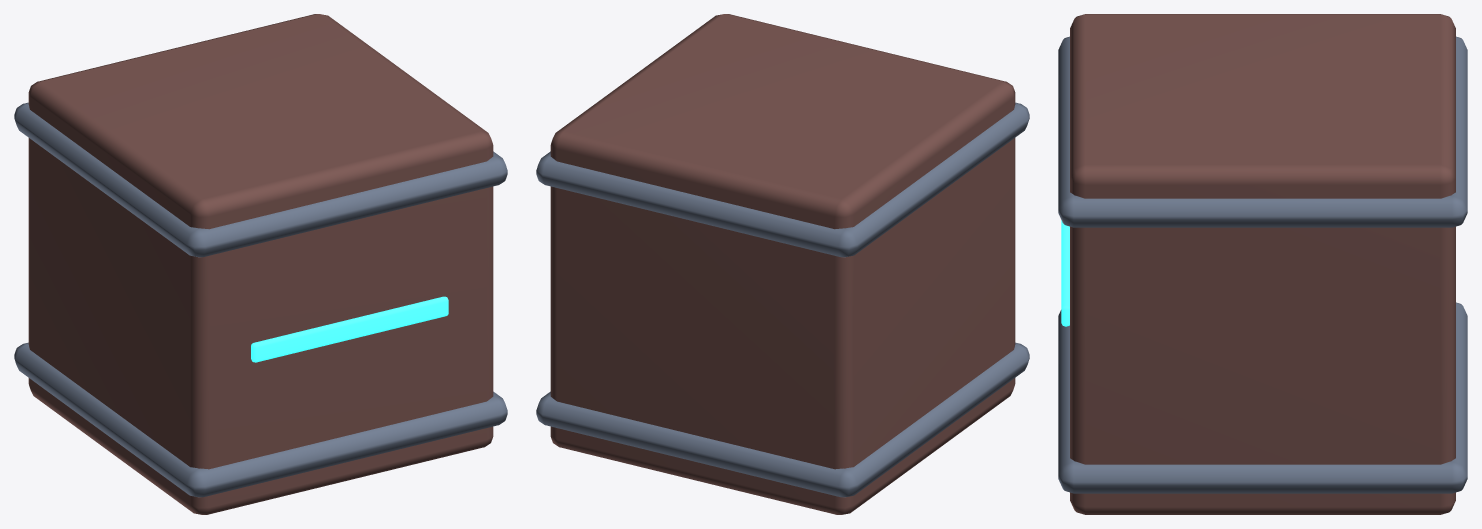
Rendered from crate.glb.
3 views of the same model, side by side, from view 1: azimuth 30°, elevation 25°; view 2: azimuth 150°, elevation 25°; view 3: azimuth 270°, elevation 25° (orthographic). The views are drawn at different scales.
Visible parts, largest first — view 1: Crate, Metal band.001, Metal band, Crate neon; view 2: Crate, Metal band.001, Metal band; view 3: Crate, Metal band.001, Metal band, Crate neon.
Part boxes in pixels (left/top/right/bottom): Crate: left=28, top=14, right=493, bottom=514; Metal band.001: left=14, top=102, right=507, bottom=257; Metal band: left=14, top=342, right=507, bottom=497; Crate neon: left=251, top=296, right=448, bottom=362; Crate: left=550, top=14, right=1015, bottom=514; Metal band.001: left=536, top=102, right=1029, bottom=257; Metal band: left=536, top=342, right=1029, bottom=497; Crate: left=1070, top=14, right=1455, bottom=514; Metal band.001: left=1058, top=36, right=1467, bottom=227; Metal band: left=1058, top=302, right=1467, bottom=493; Crate neon: left=1061, top=220, right=1069, bottom=326.
Bounding box in the file's own units: 1.06 × 1 × 1.06.
